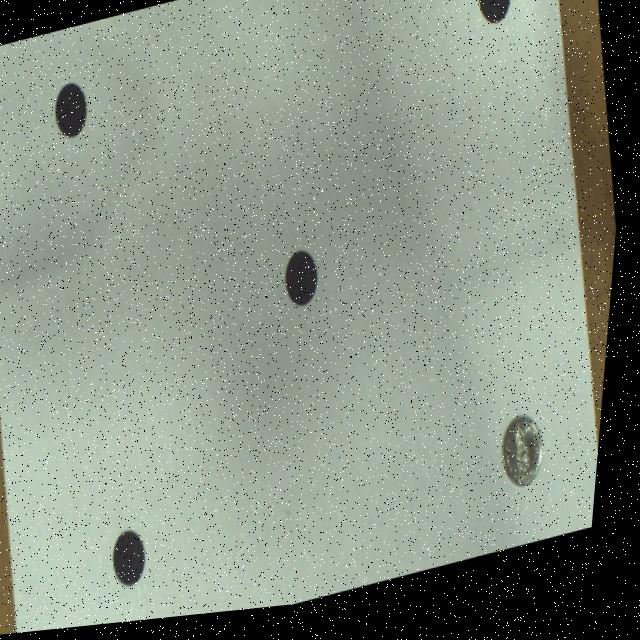space: (122, 533, 155, 590), (290, 257, 323, 313), (57, 85, 89, 139), (479, 0, 511, 34)
tail1bath: (511, 428, 552, 499)
